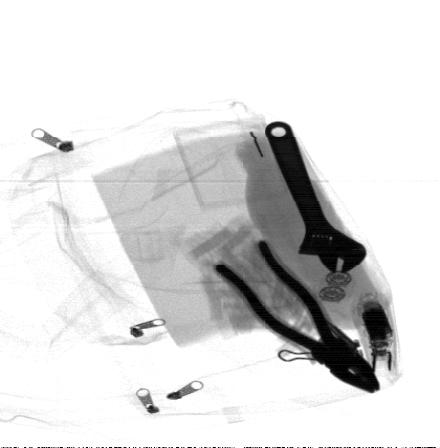Pliers: (216, 241, 384, 395)
Wrench: (262, 119, 365, 275)
